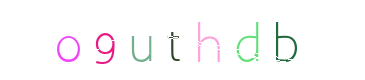9: (65, 0, 145, 80)
B: (210, 0, 290, 80)
D: (173, 0, 253, 80)
H: (161, 0, 241, 80)
O: (28, 0, 108, 80)
T: (142, 0, 222, 80)
U: (118, 0, 198, 80)
